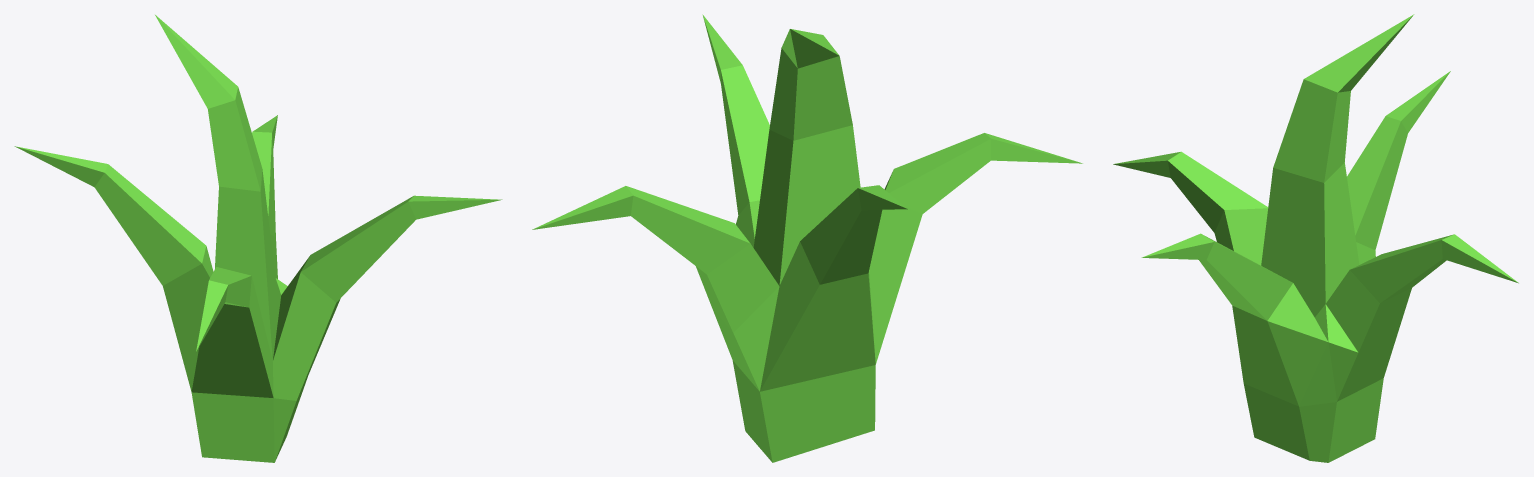
The model's file is Herbe(7).fbx.
The picture shows the model from 3 angles, left to right: view 1: azimuth 30°, elevation 25°; view 2: azimuth 150°, elevation 25°; view 3: azimuth 270°, elevation 25°; orthographic projection. The views are drawn at different scales.
Visible parts, largest first — view 1: Grass1.002; view 2: Grass1.002; view 3: Grass1.002.
Part boxes in pixels (box(x1,y1,x2,y2)): Grass1.002: box(14, 15, 502, 462); Grass1.002: box(532, 14, 1082, 462); Grass1.002: box(1113, 14, 1518, 462).
Bounding box in the file's own units: 206 × 238 × 215.
